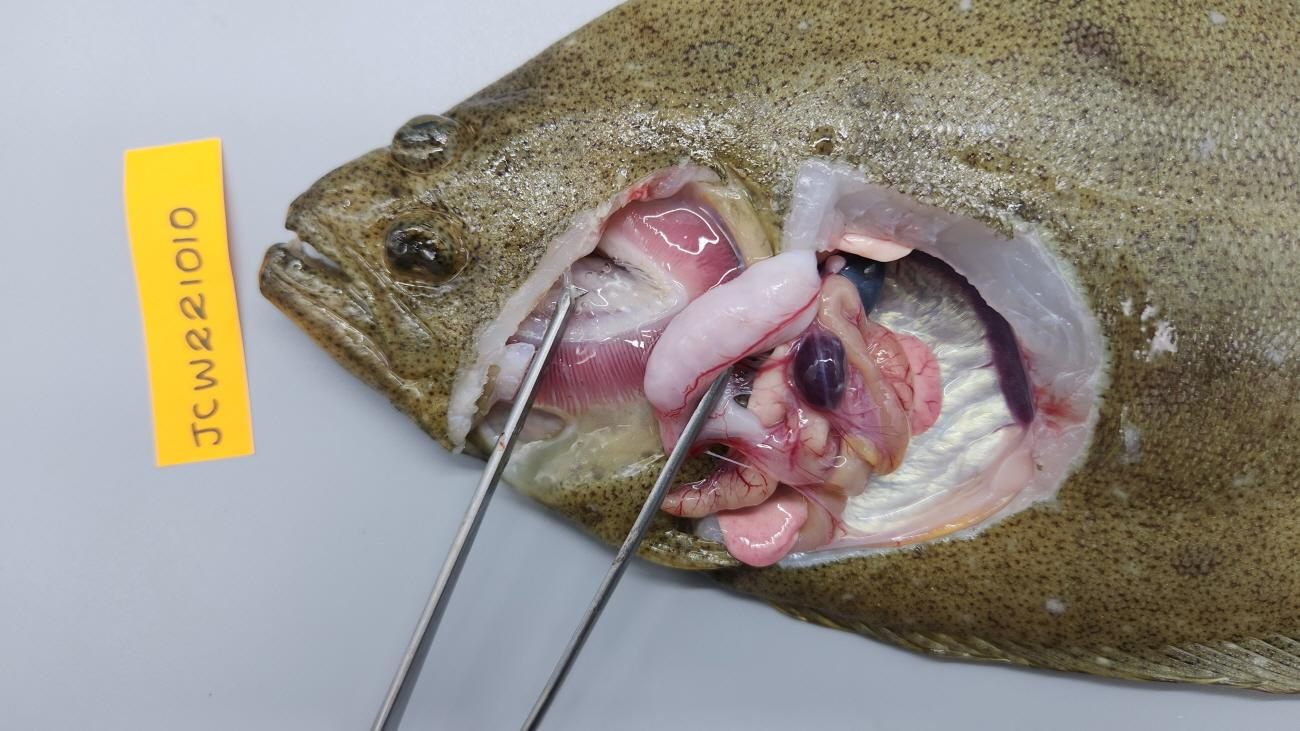POINN: (746, 342, 831, 456)
POSPN: (792, 332, 846, 408)
